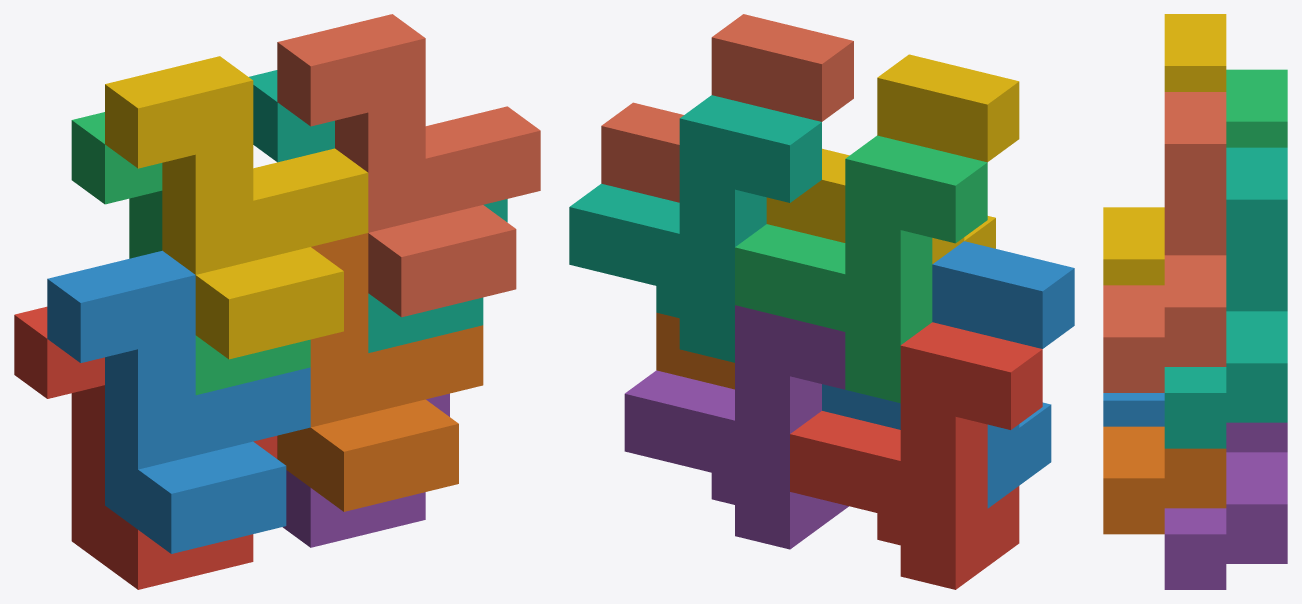
Rendered from tiling.obj.
The picture shows the model from 3 angles, left to right: view 1: azimuth 30°, elevation 25°; view 2: azimuth 150°, elevation 25°; view 3: azimuth 270°, elevation 25°; orthographic projection. The views are drawn at different scales.
Visible parts, largest first — view 1: copy_1_domain_4, copy_1_domain_2, copy_1_domain_8, copy_1_domain_6, copy_1_domain_1, copy_1_domain_3, copy_1_domain_7, copy_1_domain_5; view 2: copy_1_domain_1, copy_1_domain_3, copy_1_domain_7, copy_1_domain_5, copy_1_domain_8, copy_1_domain_2, copy_1_domain_4, copy_1_domain_6; view 3: copy_1_domain_8, copy_1_domain_7, copy_1_domain_5, copy_1_domain_6, copy_1_domain_4, copy_1_domain_3, copy_1_domain_2.
Boxes of the visible parts, bbox=[...] form: copy_1_domain_4: bbox=[105, 56, 368, 359]; copy_1_domain_2: bbox=[47, 250, 310, 553]; copy_1_domain_8: bbox=[277, 14, 540, 317]; copy_1_domain_6: bbox=[277, 233, 483, 511]; copy_1_domain_1: bbox=[14, 306, 277, 589]; copy_1_domain_3: bbox=[71, 112, 310, 395]; copy_1_domain_7: bbox=[249, 70, 507, 352]; copy_1_domain_5: bbox=[282, 393, 449, 547]; copy_1_domain_1: bbox=[790, 322, 1042, 589]; copy_1_domain_3: bbox=[735, 135, 987, 403]; copy_1_domain_7: bbox=[569, 95, 821, 362]; copy_1_domain_5: bbox=[624, 305, 848, 549]; copy_1_domain_8: bbox=[601, 14, 853, 202]; copy_1_domain_2: bbox=[822, 241, 1074, 508]; copy_1_domain_4: bbox=[766, 54, 1019, 263]; copy_1_domain_6: bbox=[656, 312, 734, 389]; copy_1_domain_8: bbox=[1103, 92, 1226, 392]; copy_1_domain_7: bbox=[1164, 147, 1287, 448]; copy_1_domain_5: bbox=[1164, 422, 1287, 589]; copy_1_domain_6: bbox=[1103, 426, 1226, 534]; copy_1_domain_4: bbox=[1103, 14, 1226, 285]; copy_1_domain_3: bbox=[1226, 69, 1287, 147]; copy_1_domain_2: bbox=[1103, 393, 1164, 426].
Bounding box in the file's own units: 8 × 8 × 3.
